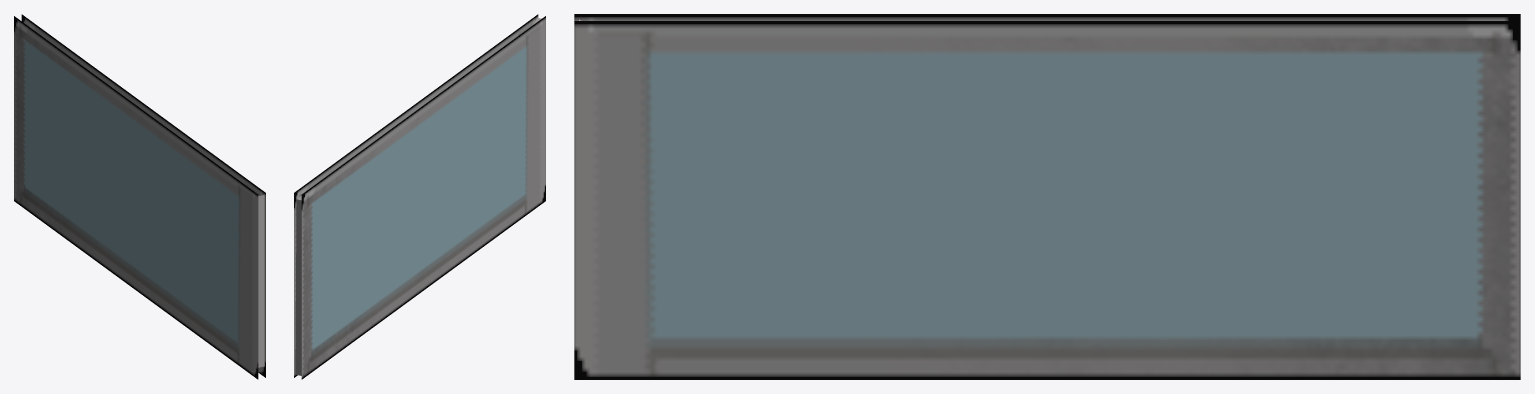
The model's file is pz_native_fixtures_doors_01_114_frame.obj.
3 views of the same model, side by side, from view 1: azimuth 30°, elevation 25°; view 2: azimuth 150°, elevation 25°; view 3: azimuth 270°, elevation 25° (orthographic). The views are drawn at different scales.
Visible parts, largest first — view 1: pz_native_fixtures_doors_01_114_frame; view 2: pz_native_fixtures_doors_01_114_frame; view 3: pz_native_fixtures_doors_01_114_frame.
Part boxes in pixels (x1,y1,x2,y2): pz_native_fixtures_doors_01_114_frame: (14,14,265,379); pz_native_fixtures_doors_01_114_frame: (294,14,545,379); pz_native_fixtures_doors_01_114_frame: (574,14,1520,379).
Bounding box in the file's own units: 0.045 × 1.06 × 2.54.
1 material, 1 textured.
